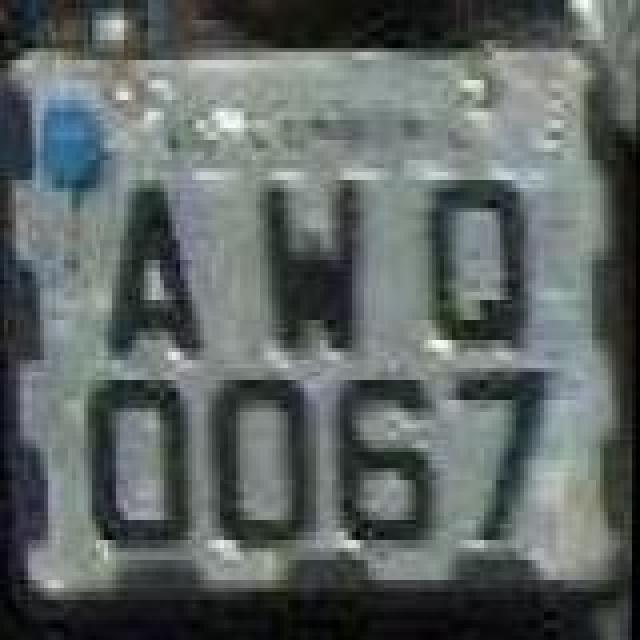6: (332, 374, 440, 546)
7: (448, 366, 556, 546)
A: (100, 182, 204, 362)
O: (80, 374, 196, 554), (204, 374, 320, 554)
Q: (426, 174, 534, 354)
W: (250, 168, 366, 360)
